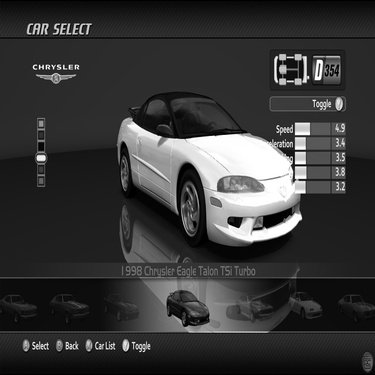car: (110, 85, 307, 254)
